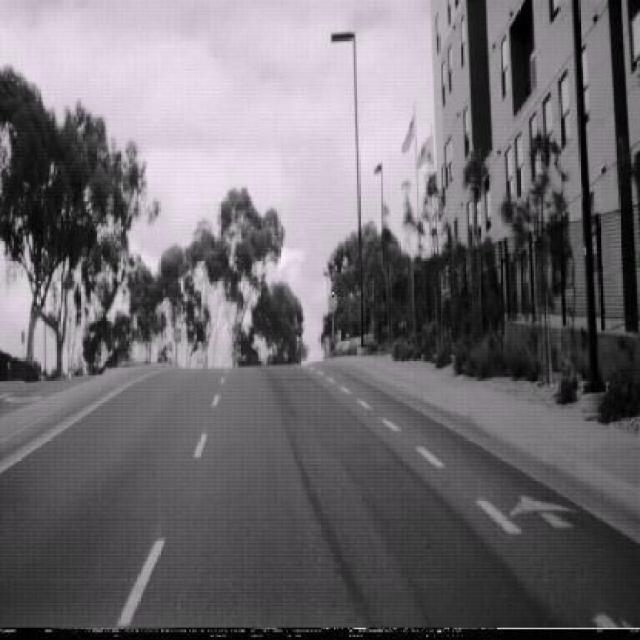stop: (326, 292, 337, 313), (172, 326, 181, 343)
